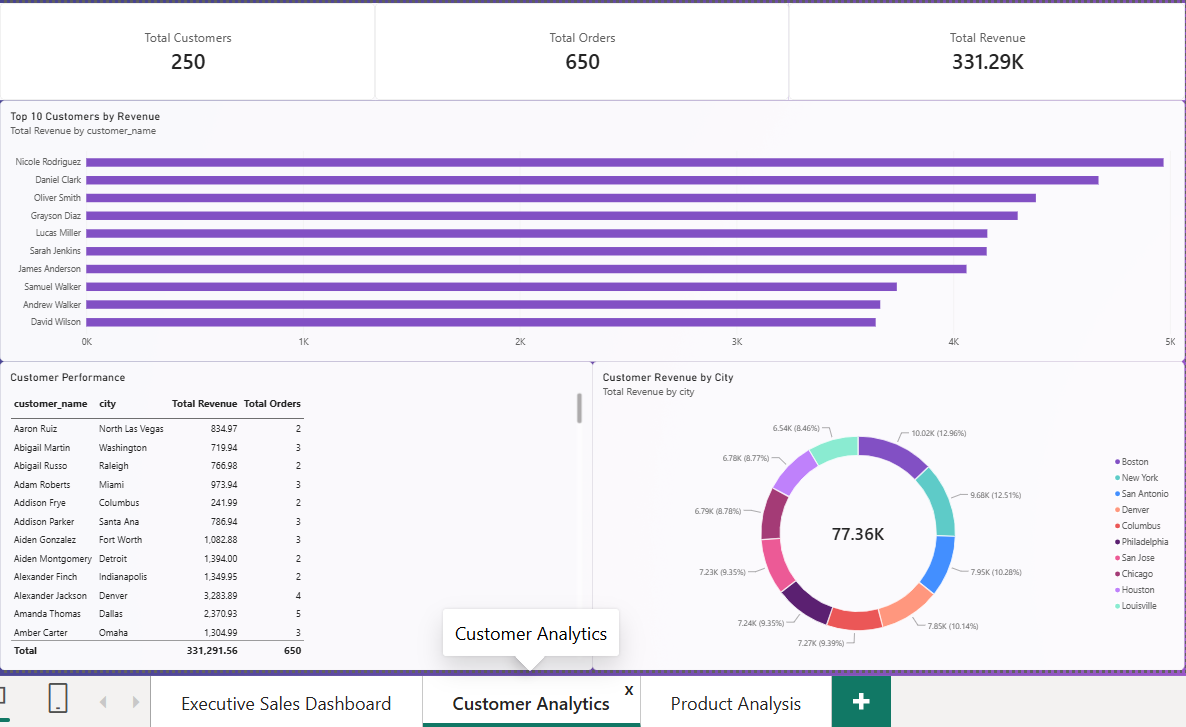

What the dashboard file says about the page in this screenshot:
{"tool":"powerbi","page":{"name":"Customer Analytics","canvas":[1920,1080],"ordinal":1},"visuals":[{"type":"cardVisual","fields":{"Data":["storedb order_items.Total Customers"]},"box":[0,0,607.5,157.5],"z":0},{"type":"cardVisual","fields":{"Data":["storedb order_items.Total Orders"]},"box":[607.5,0,670,157.5],"z":1000},{"type":"cardVisual","fields":{"Data":["storedb order_items.Total Revenue"]},"box":[1277.5,0,642.5,157.5],"z":2000},{"type":"clusteredBarChart","title":"Top 10 Customers by Revenue","fields":{"Category":["storedb customers.customer_name"],"Y":["storedb order_items.Total Revenue"]},"box":[0,157.5,1920,422.5],"z":3000},{"type":"tableEx","title":"Customer Performance","fields":{"Values":["storedb customers.customer_name","storedb customers.city","storedb order_items.Total Revenue","storedb order_items.Total Orders"]},"box":[0,580,960,500],"z":4000},{"type":"donutChart","title":"Customer Revenue by City","fields":{"Category":["storedb customers.city"],"Y":["storedb order_items.Total Revenue"]},"box":[960,580,960,500],"z":5000}]}

Visuals, with their boxes on the page's 1920x1080 design canvas (x1, y1, x2, y2). These are canvas units, not pixel positions in the 1186x727 screenshot, which may show the page scaled, cropped or inside an application window:
cardVisual - storedb order_items.Total Customers: <bbox>0, 0, 608, 158</bbox>
cardVisual - storedb order_items.Total Orders: <bbox>608, 0, 1278, 158</bbox>
cardVisual - storedb order_items.Total Revenue: <bbox>1278, 0, 1920, 158</bbox>
"Top 10 Customers by Revenue" clusteredBarChart: <bbox>0, 158, 1920, 580</bbox>
"Customer Performance" tableEx: <bbox>0, 580, 960, 1080</bbox>
"Customer Revenue by City" donutChart: <bbox>960, 580, 1920, 1080</bbox>
